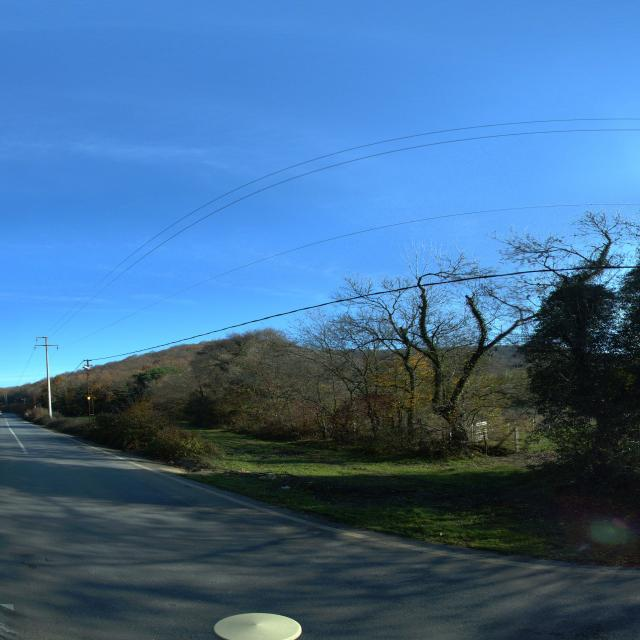Utility Pole Information Plate: (87, 397, 90, 399)
